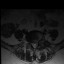CCS_normal: (33, 40, 35, 50)
LFS_severe_stenosis: (37, 39, 39, 46)
LLS_normal: (35, 40, 37, 48)
RFS_severe_stenosis: (29, 39, 31, 45)
RLS_normal: (31, 40, 33, 48)
